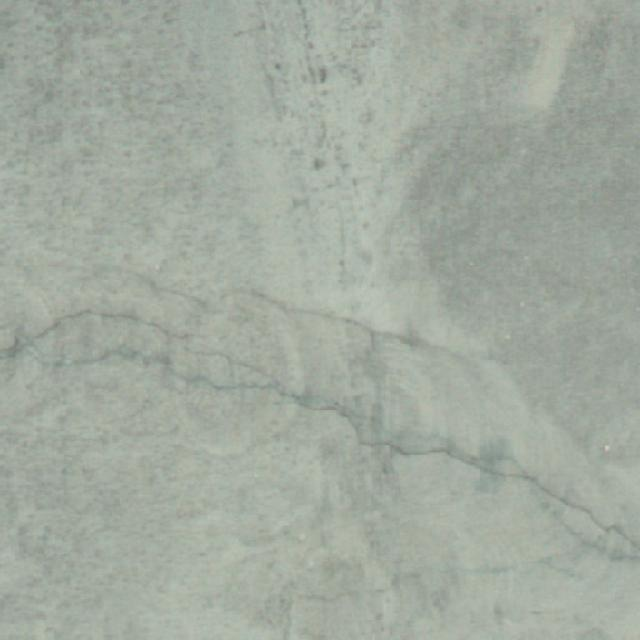Annular: (1, 306, 281, 402)
Network: (287, 289, 640, 583)
